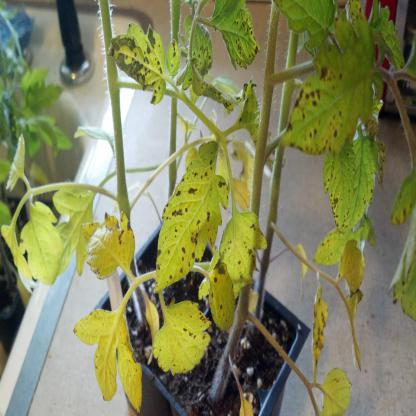Tomato Septoria leaf spot: (278, 18, 383, 158), (151, 138, 225, 302), (315, 125, 398, 236), (107, 16, 169, 111), (151, 290, 213, 377), (217, 202, 273, 297), (204, 4, 263, 65)
